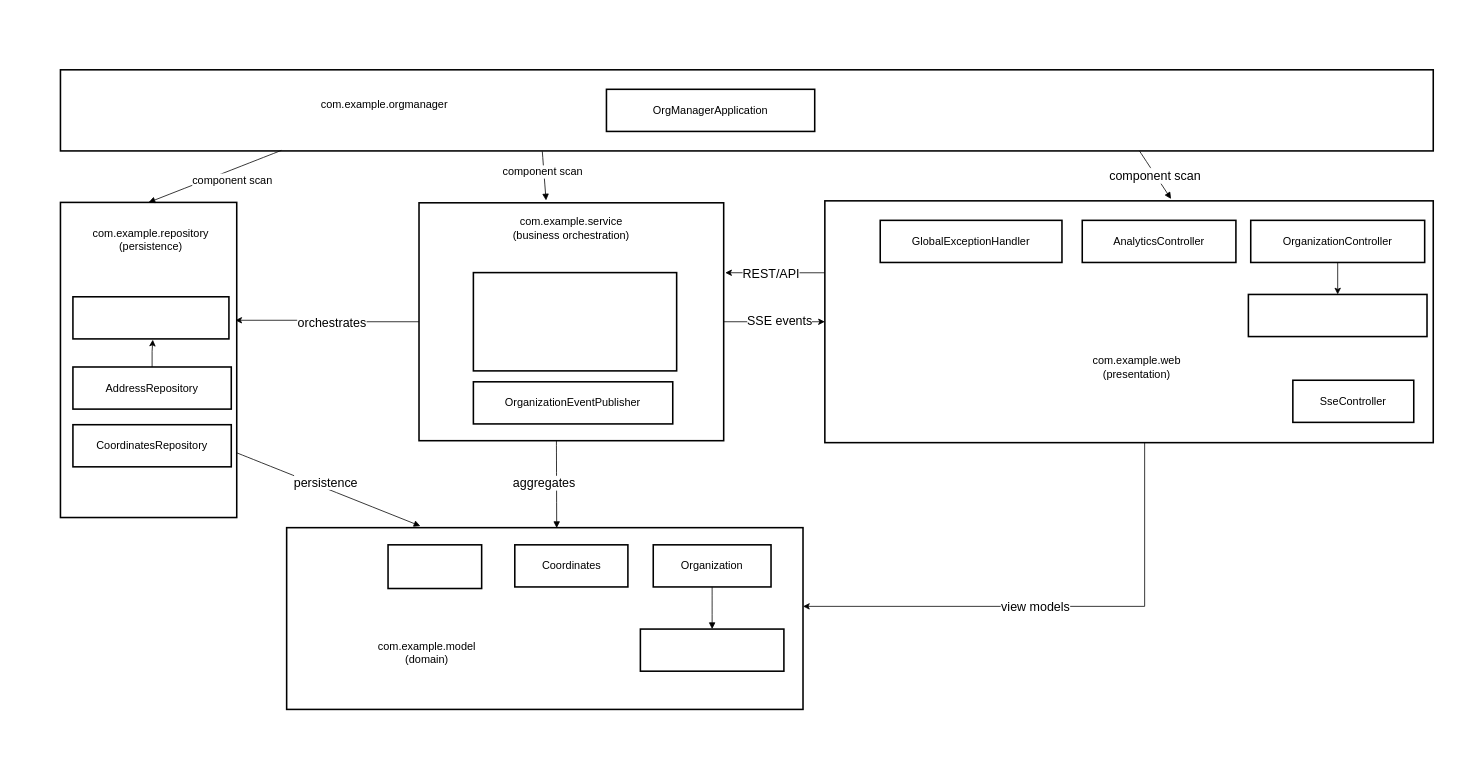
Some shapes in this 1481 by 769 pixel diagram are drawn without their labels. The box of each missing label's shape, as (x1, y1, x2, y2) in pixels:
Address: (387, 544, 482, 589)
OrganizationForm: (1247, 293, 1427, 337)
OrganizationRepository: (72, 296, 229, 339)
OrganizationService: (472, 271, 677, 371)
OrganizationType: (639, 628, 784, 672)
